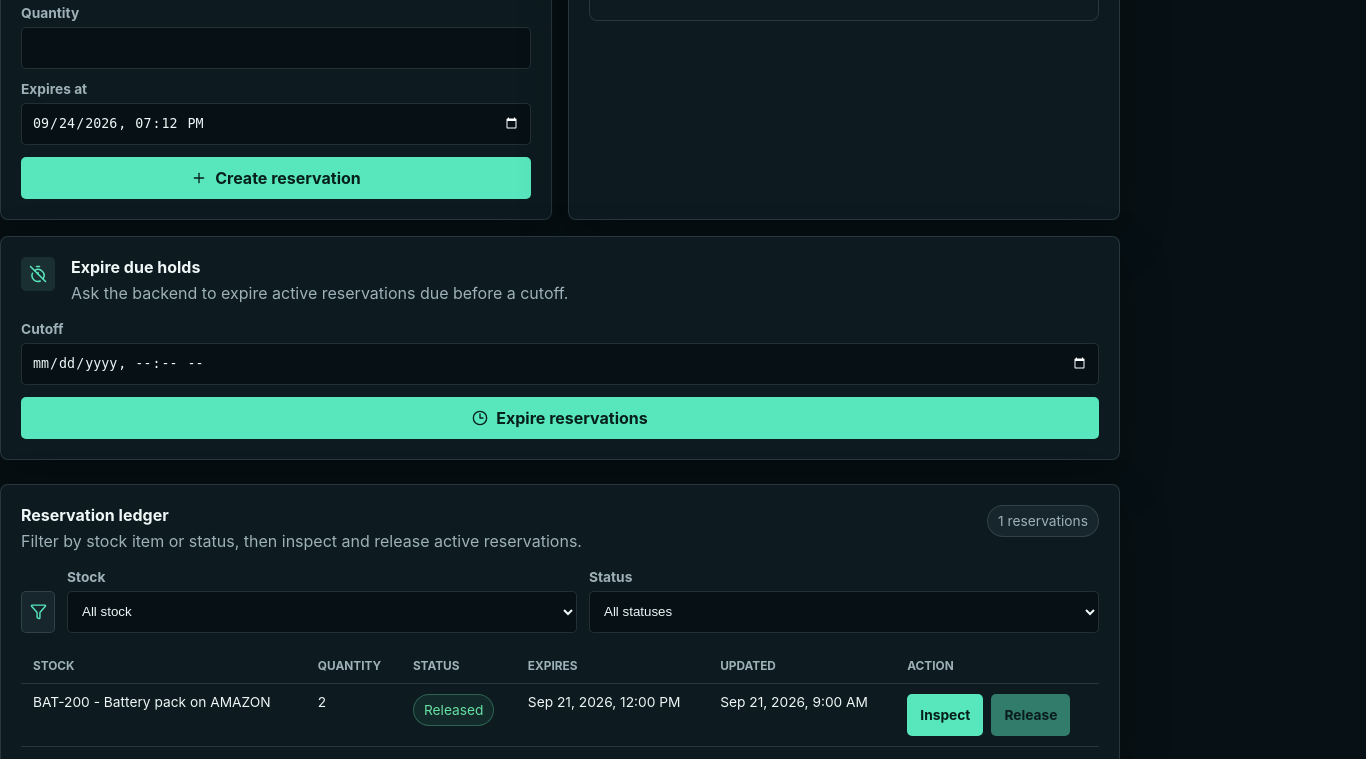
Test case: M6 workflow pages › disables unavailable reservation actions and reports expiration results
(page scrolled)
Expected: the button "Release" is disabled, [991, 694, 1070, 736]
Click the button "Expire reservations" at (560, 418), box [21, 397, 1099, 439]
(page scrolled)
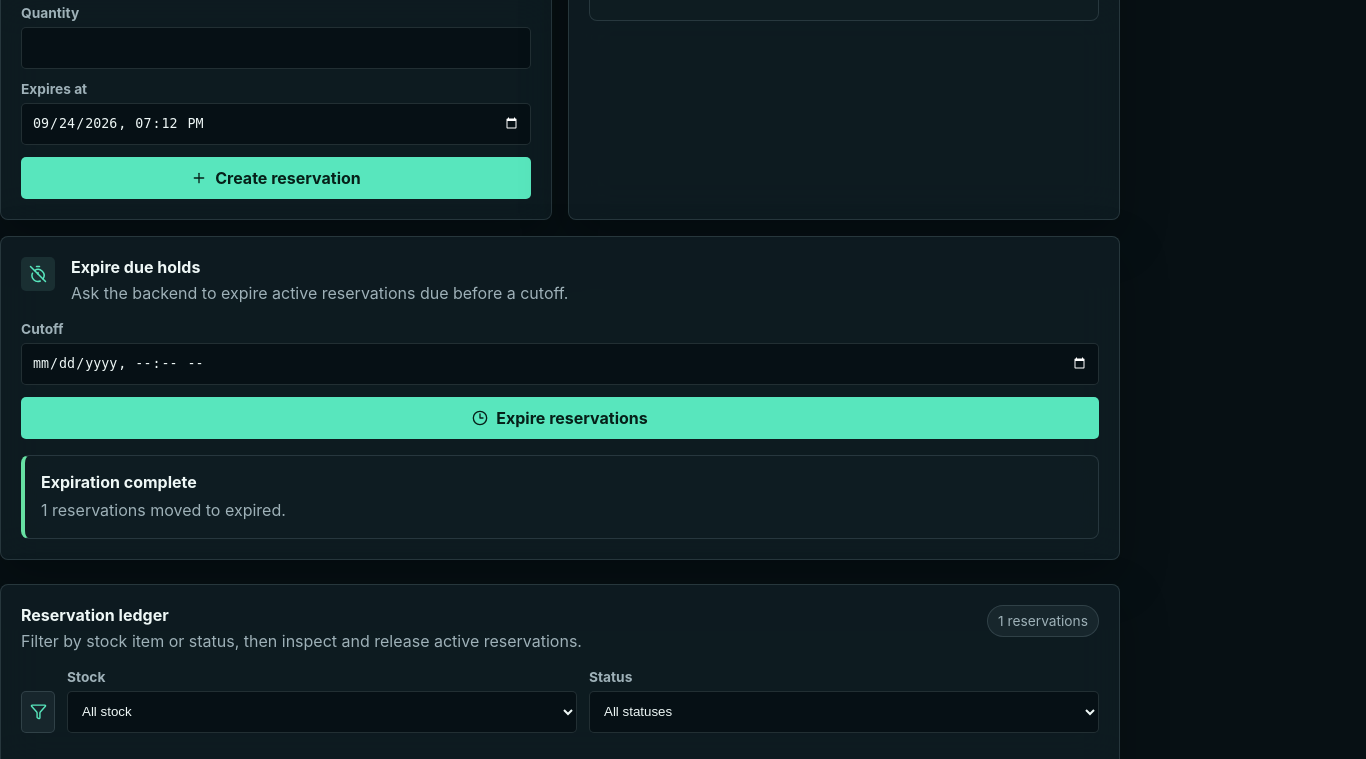
Result: the text "Expiration complete" is shown at [41, 472, 197, 492]
